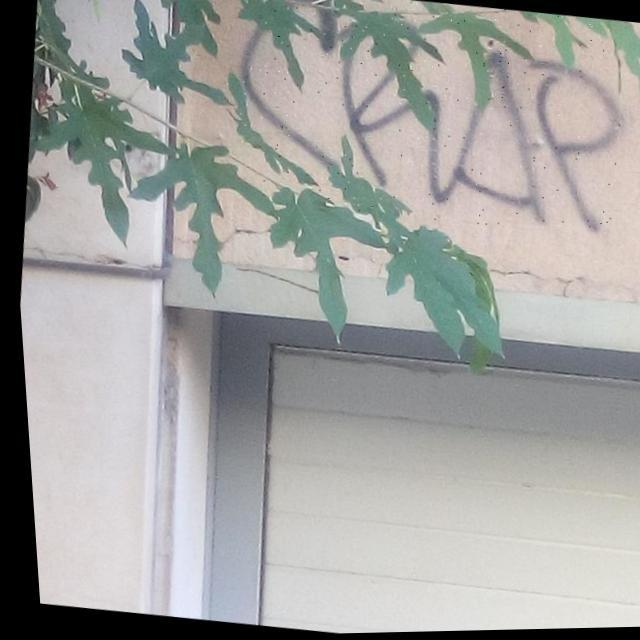-: (219, 0, 639, 246)
